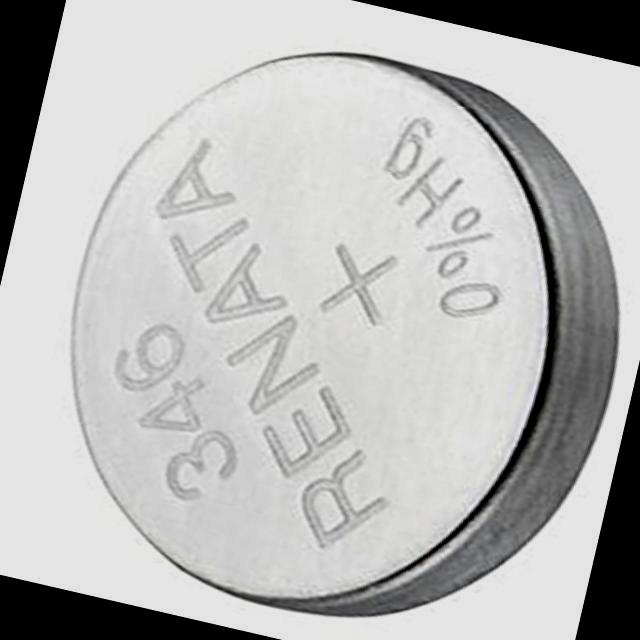COIN: (67, 46, 625, 621)
